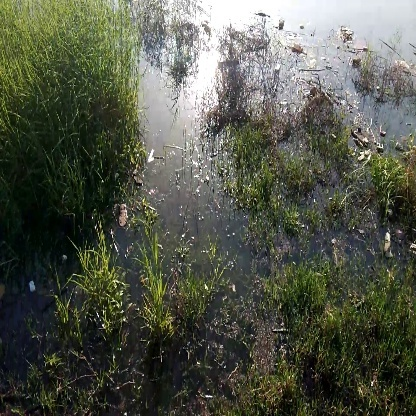grass: (71, 248, 133, 340)
